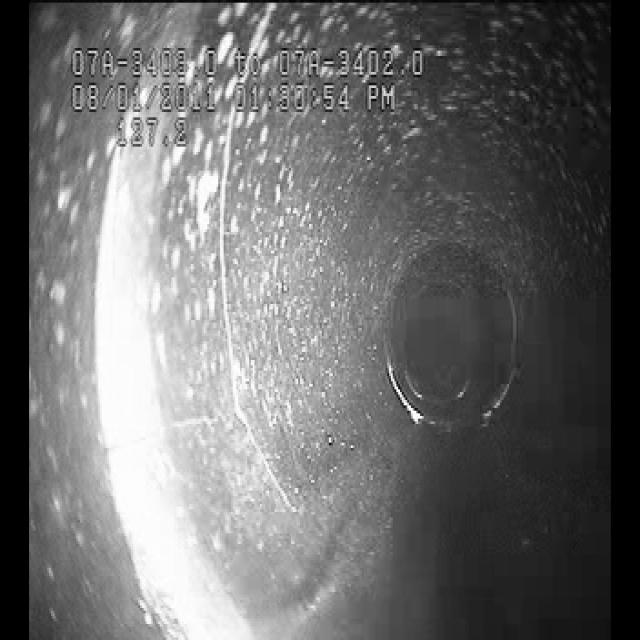Crack: (191, 147, 280, 475)
